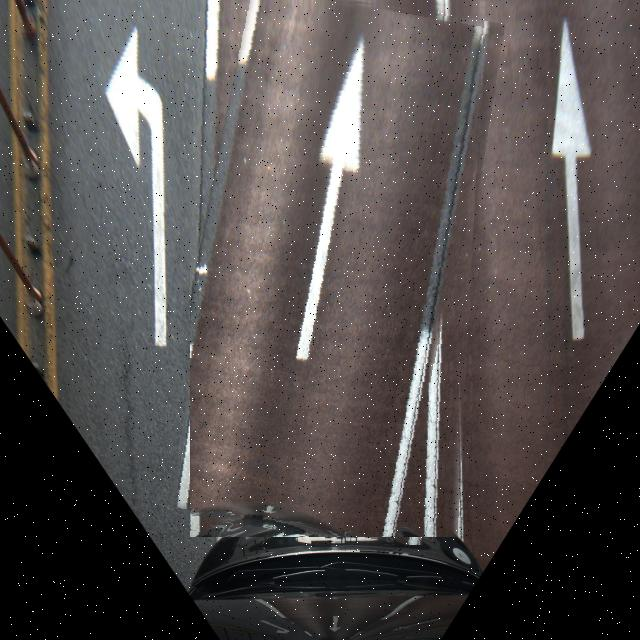forward: (190, 0, 485, 537)
